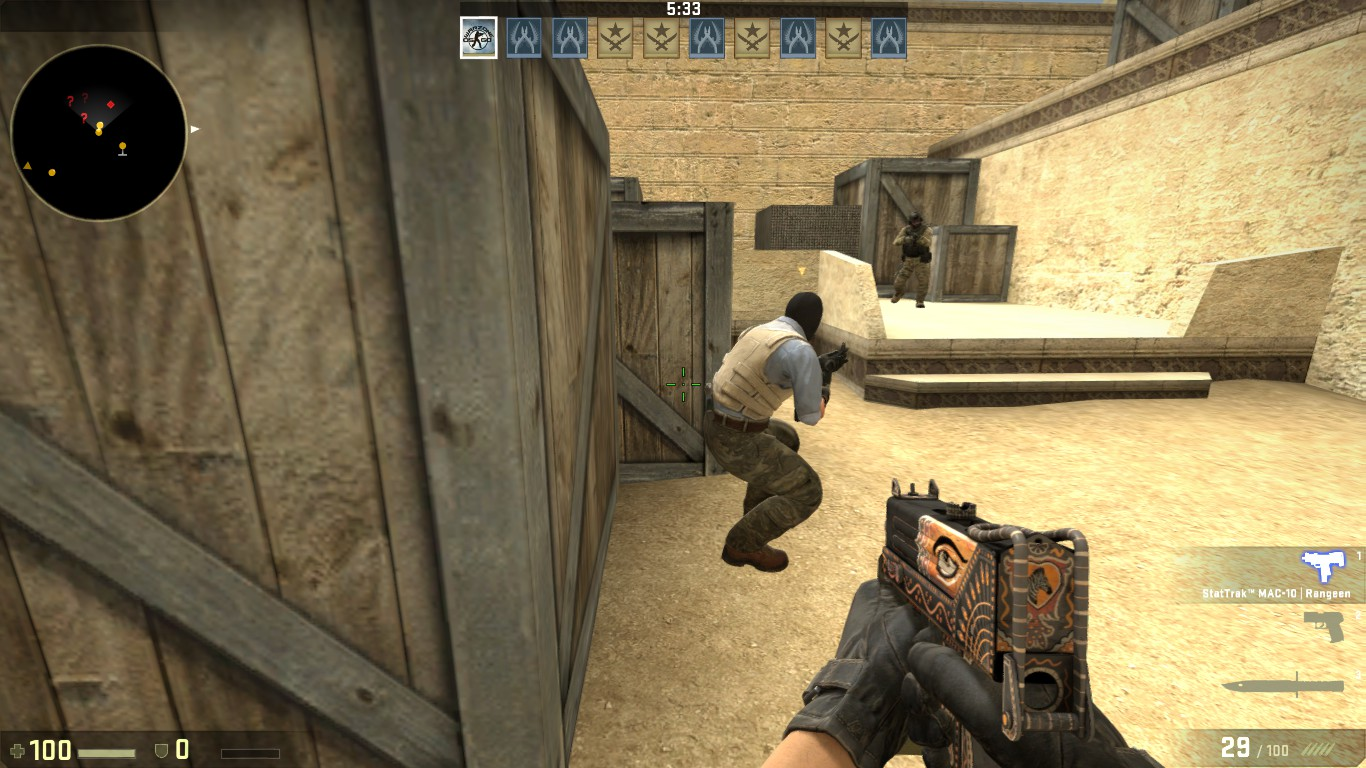c: (893, 211, 932, 304)
ch: (908, 212, 925, 231)
t: (704, 291, 834, 573)
th: (777, 290, 828, 342)
